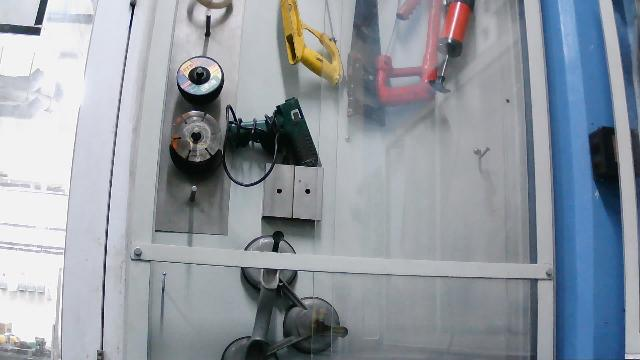gun_lem: (221, 94, 324, 189)
